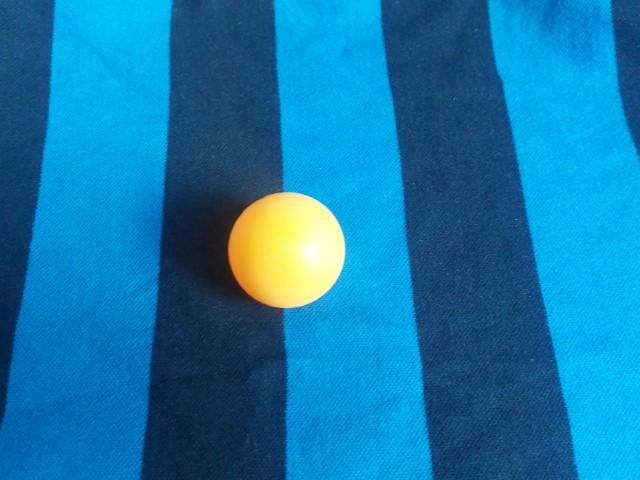oball: (289, 164, 419, 297)
